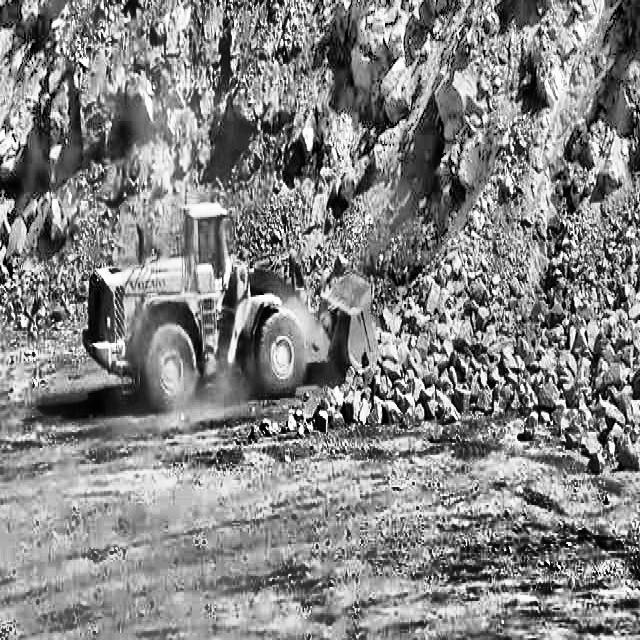buldozerpayloadergrader: (77, 186, 385, 426)
